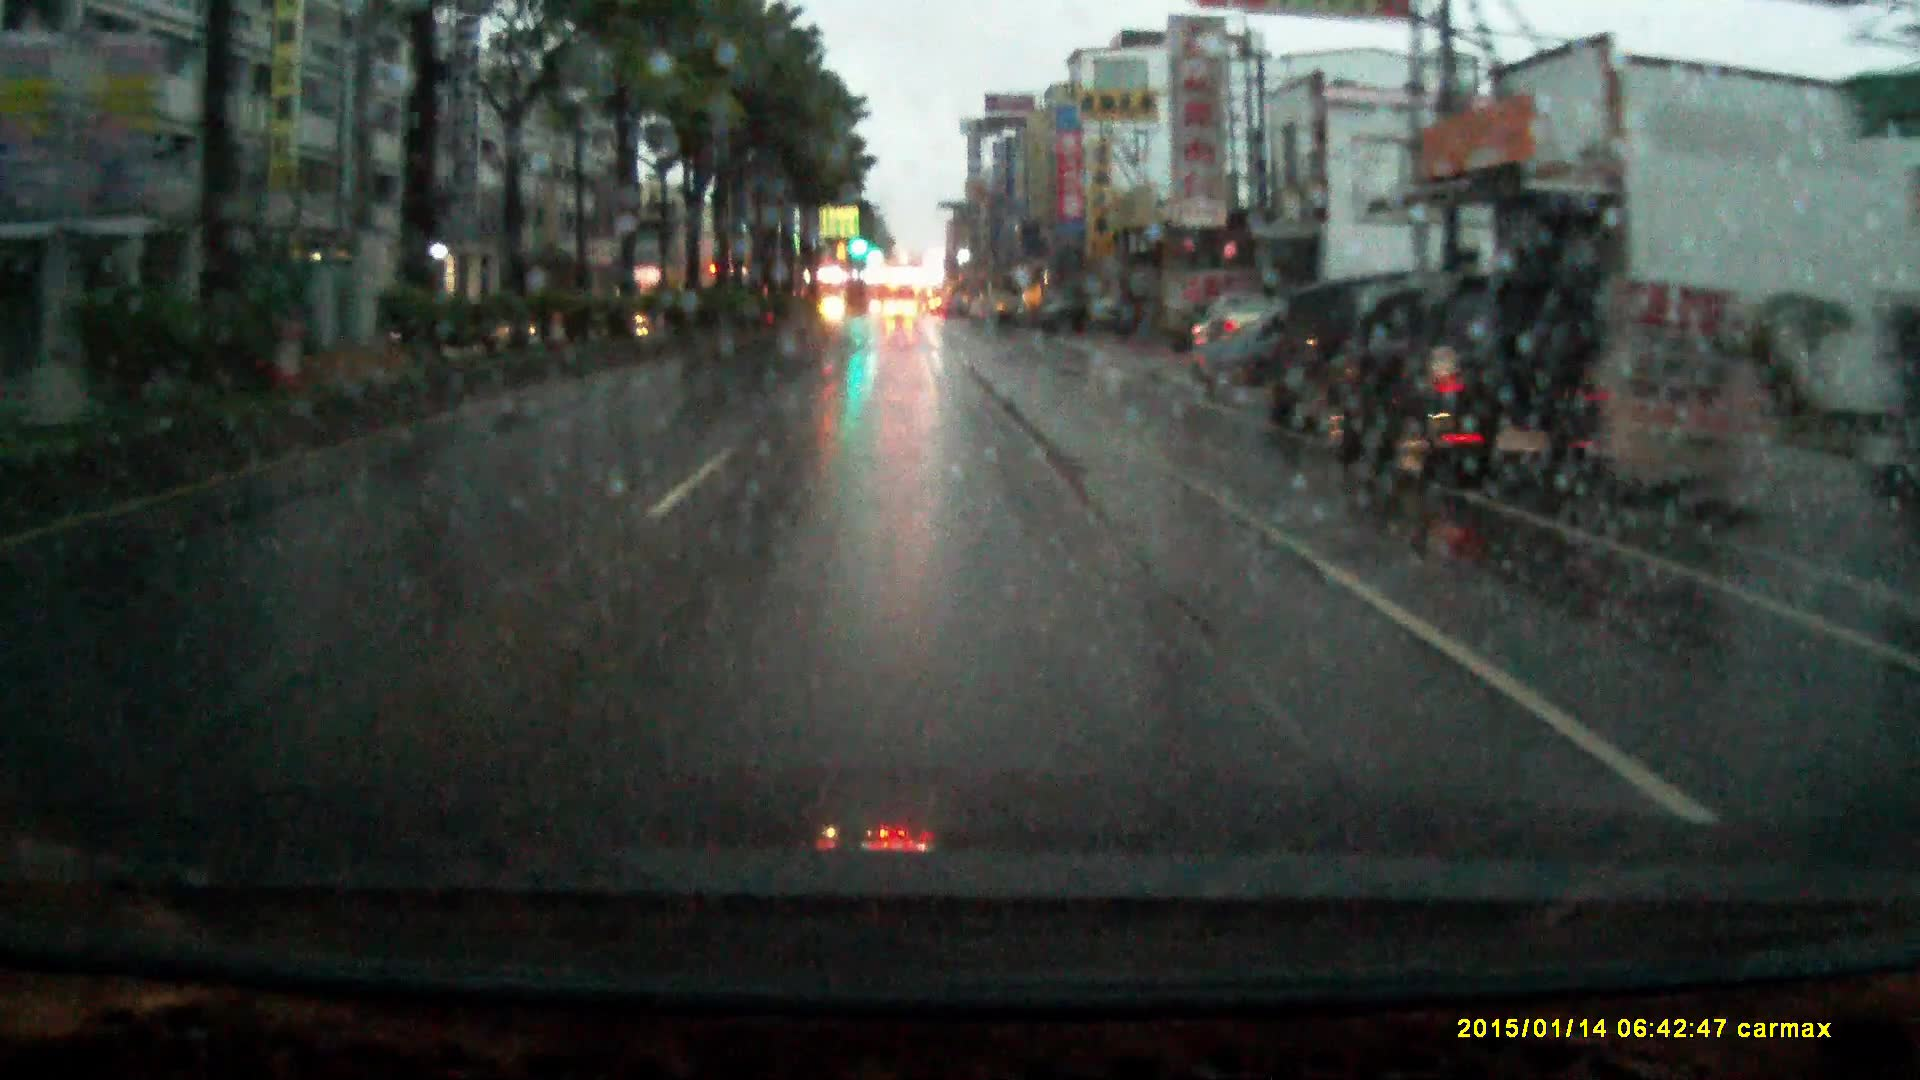vehicle: (1305, 258, 1633, 484), (1247, 261, 1444, 433), (1188, 294, 1294, 385), (978, 280, 1023, 318), (884, 290, 918, 315)
